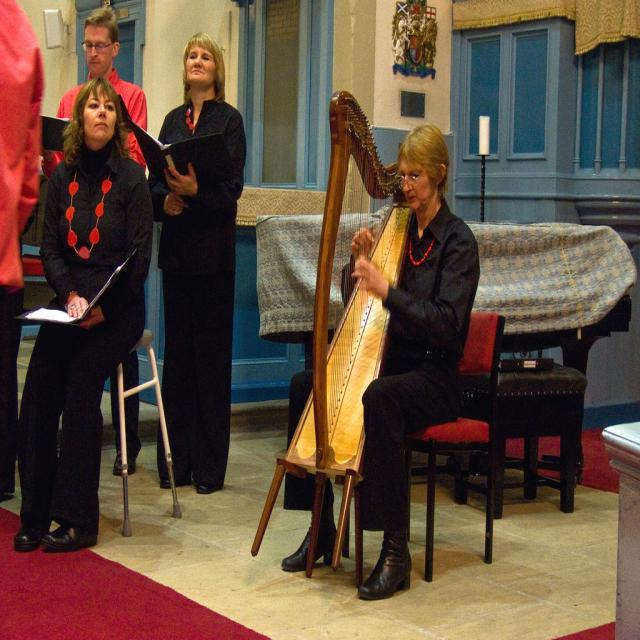harp: (250, 89, 424, 576)
